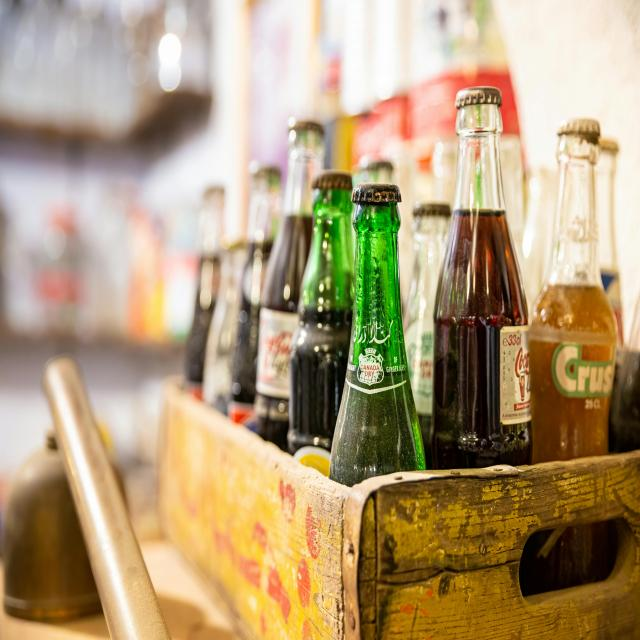electronic: (184, 87, 640, 487)
